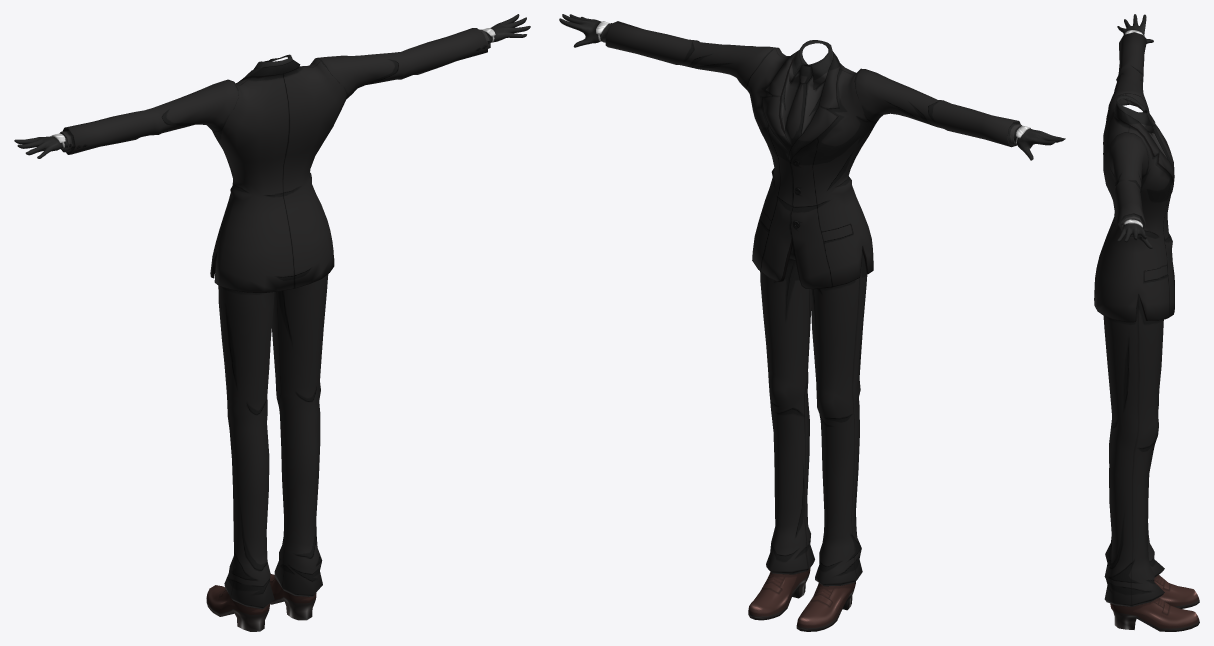
Rendered from saber_suit.gltf.
3 views of the same model, side by side, from view 1: azimuth 30°, elevation 25°; view 2: azimuth 150°, elevation 25°; view 3: azimuth 270°, elevation 25° (orthographic). The views are drawn at different scales.
Parts seen in each view (by area): view 1: F016_Saber.001_Untitled.000; view 2: F016_Saber.001_Untitled.000; view 3: F016_Saber.001_Untitled.000.
Part boxes in pixels (x1,y1,x2,y2): F016_Saber.001_Untitled.000: [14, 14, 530, 631]; F016_Saber.001_Untitled.000: [559, 14, 1065, 631]; F016_Saber.001_Untitled.000: [1094, 14, 1199, 631].
Size of the model in its own units: 1.29 by 1.37 by 0.2552.
